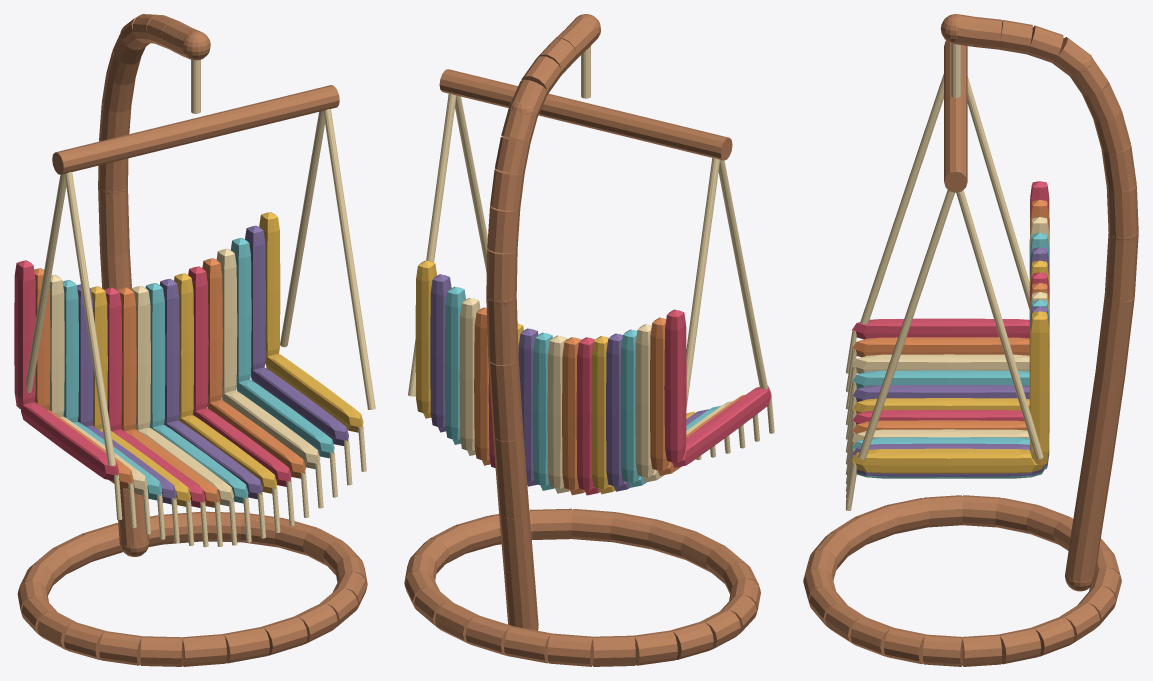
File: serape-hammock-chair.glb
The picture shows the model from 3 angles, left to right: view 1: azimuth 30°, elevation 25°; view 2: azimuth 150°, elevation 25°; view 3: azimuth 270°, elevation 25°; orthographic projection.
Parts seen in each view (by area): view 1: serape-hammock-chair; view 2: serape-hammock-chair; view 3: serape-hammock-chair.
Part boxes in pixels (x1,y1,x2,y2): serape-hammock-chair: (14, 14, 375, 666); serape-hammock-chair: (404, 14, 774, 666); serape-hammock-chair: (803, 14, 1138, 666).
Bounding box in the file's own units: 1.09 × 1.9 × 0.9997.
